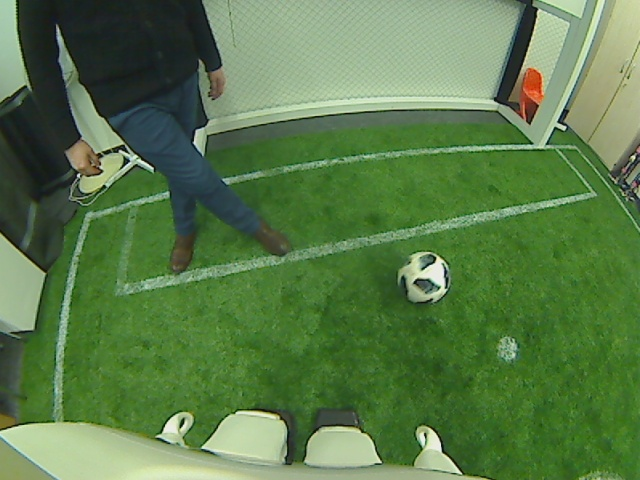ball: (395, 250, 452, 305)
